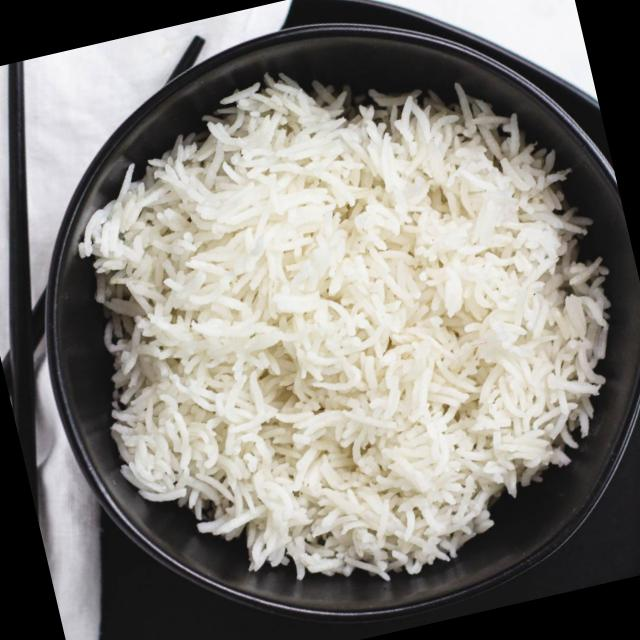rice: (90, 72, 611, 586)
